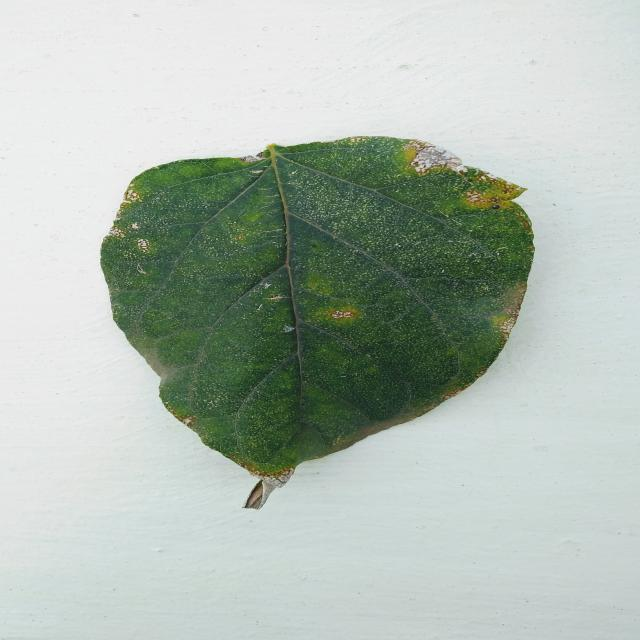Parijatha: (102, 136, 533, 509)
